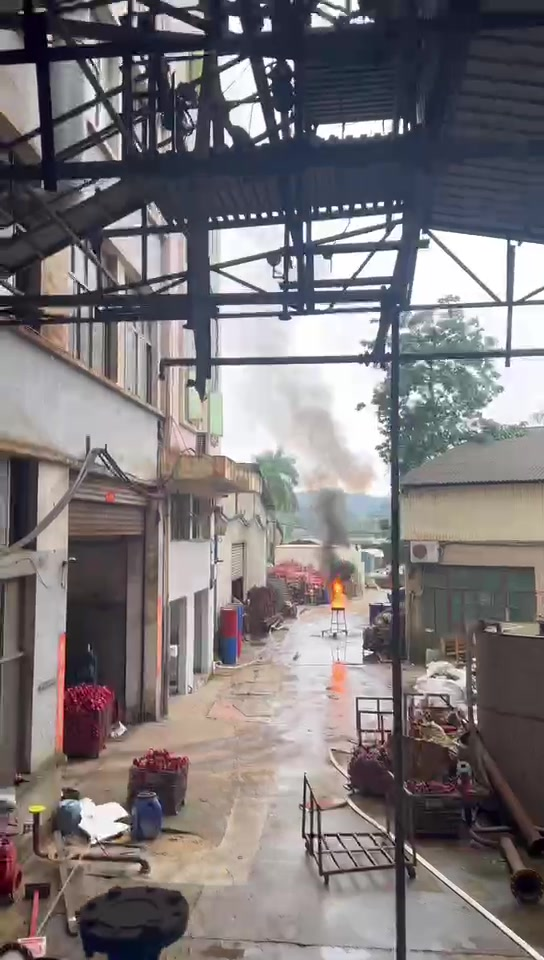fire: (329, 579, 345, 608)
